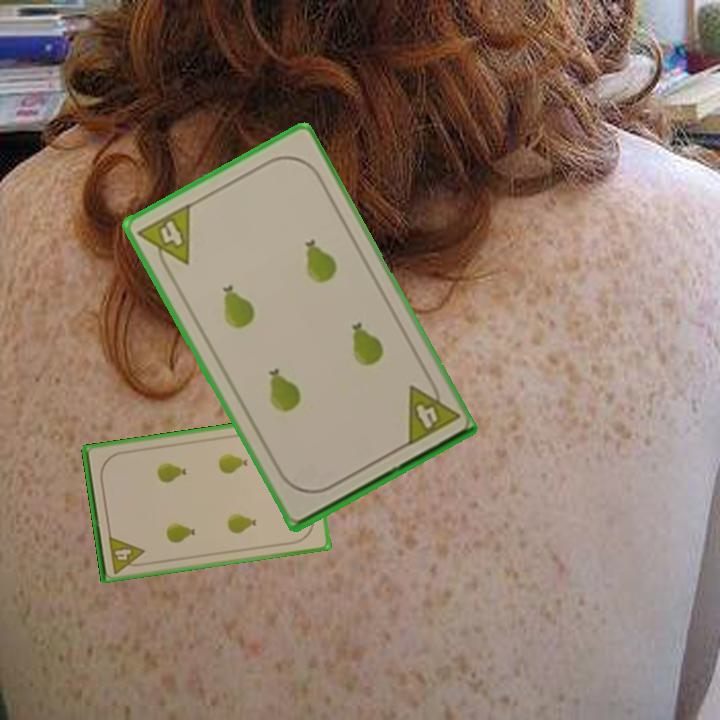4p: (401, 373, 461, 450), (134, 200, 193, 277), (105, 532, 148, 576)
